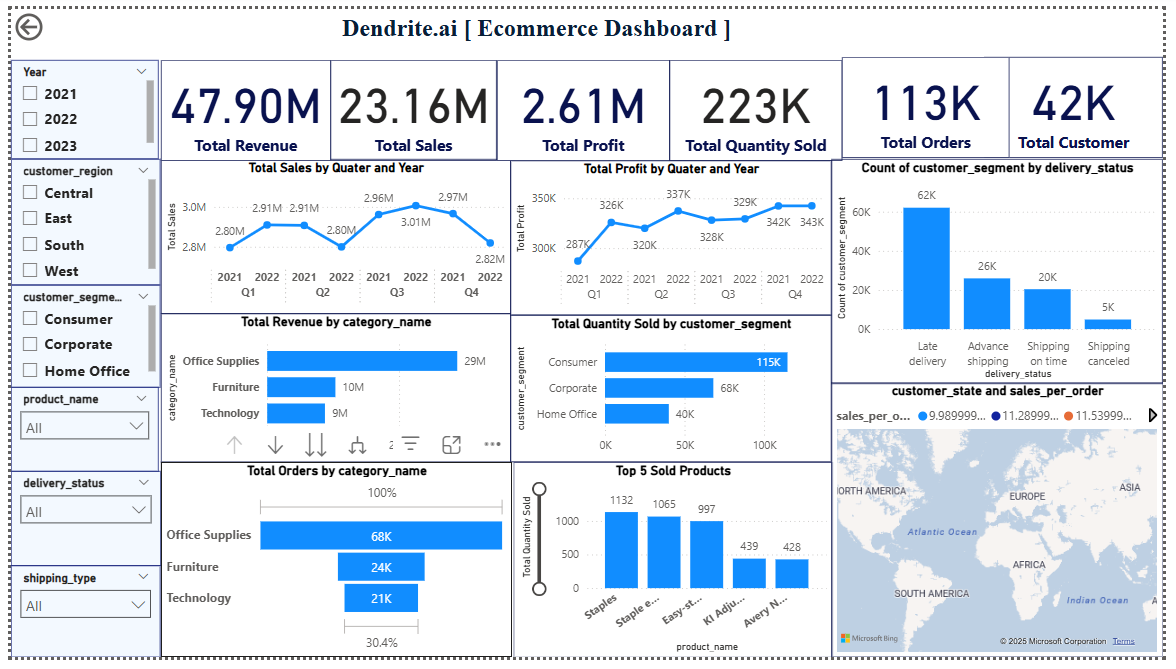

What the dashboard file says about the page in this screenshot:
{"tool":"powerbi","page":{"name":"Ecommerce Dashboard","canvas":[1280,720],"ordinal":0},"visuals":[{"type":"textbox","box":[0,0,1260,54],"z":0},{"type":"slicer","fields":{"Values":["Calender.Year"]},"box":[0,56,164,110],"z":1000},{"type":"lineChart","fields":{"Category":["Calender.Quater","Calender.Year"],"Y":["ecommerce_data.Total Sales"]},"box":[166.7,166.7,388.3,171.7],"z":2000},{"type":"card","fields":{"Values":["ecommerce_data.Total Customer"]},"box":[1082,54,198,112],"z":3000},{"type":"slicer","fields":{"Values":["ecommerce_data.customer_region"]},"box":[0,166,166,140],"z":4000},{"type":"lineChart","fields":{"Y":["ecommerce_data.Total Profit"],"Category":["Calender.Quater","Calender.Year"]},"box":[555,168.3,356.7,171.7],"z":5000},{"type":"slicer","fields":{"Values":["ecommerce_data.customer_segment"]},"box":[0,306,166,114],"z":6000},{"type":"slicer","fields":{"Values":["ecommerce_data.shipping_type"]},"box":[0,618,166,102],"z":7000},{"type":"slicer","fields":{"Values":["ecommerce_data.product_name"]},"box":[0,420,164,94],"z":8000},{"type":"card","fields":{"Values":["ecommerce_data.Total Sales"]},"box":[355.5,56.4,184.5,111.8],"z":9000},{"type":"slicer","fields":{"Values":["ecommerce_data.delivery_status"]},"box":[0,513.3,166.7,105],"z":10000},{"type":"card","fields":{"Values":["ecommerce_data.Total Profit"]},"box":[540,56.4,191.8,111.8],"z":11000},{"type":"actionButton","box":[0,0,100,40],"z":12000},{"type":"barChart","fields":{"Y":["ecommerce_data.Total Revenue"],"Category":["ecommerce_data.category_name"]},"box":[166.7,338.3,388.3,165],"z":13000},{"type":"card","fields":{"Values":["ecommerce_data.Total Revenue"]},"box":[166.7,56.7,188.3,111.7],"z":14000},{"type":"barChart","fields":{"Category":["ecommerce_data.customer_segment"],"Y":["ecommerce_data.Total Quantity Sold"]},"box":[555,340,356.7,163.3],"z":15000},{"type":"funnel","fields":{"Category":["ecommerce_data.category_name","ecommerce_data.customer_segment"],"Y":["ecommerce_data.Total Orders"]},"box":[166.7,503.3,390,216.7],"z":16000},{"type":"card","fields":{"Values":["ecommerce_data.Total Quantity Sold"]},"box":[731.7,56.7,191.7,111.7],"z":17000},{"type":"columnChart","fields":{"Category":["ecommerce_data.delivery_status"],"Y":["CountNonNull(ecommerce_data.customer_segment)"]},"box":[912,166,368,250],"z":18000},{"type":"filledMap","fields":{"Category":["ecommerce_data.customer_state"],"Series":["ecommerce_data.sales_per_order"]},"box":[911.7,415,368.3,305],"z":19000},{"type":"card","fields":{"Values":["ecommerce_data.Total Orders"]},"box":[924,54,186,112],"z":20000},{"type":"columnChart","title":"Top 5 Sold Products","fields":{"Category":["ecommerce_data.product_name"],"Y":["ecommerce_data.Total Quantity Sold"]},"box":[558.6,502.9,354.3,217.1],"z":20001}]}

Visuals, with their boxes in screenshot pixels (x1, y1, x2, y2), scaled from the page's 1280x720 canvas onto the 1176x669 screenshot:
textbox: left=0, top=0, right=1158, bottom=50
slicer - Calender.Year: left=0, top=52, right=151, bottom=154
lineChart - Calender.Quater x Calender.Year: left=153, top=155, right=510, bottom=314
card - ecommerce_data.Total Customer: left=994, top=50, right=1175, bottom=154
slicer - ecommerce_data.customer_region: left=0, top=154, right=153, bottom=284
lineChart - ecommerce_data.Total Profit x Calender.Quater: left=510, top=156, right=838, bottom=316
slicer - ecommerce_data.customer_segment: left=0, top=284, right=153, bottom=390
slicer - ecommerce_data.shipping_type: left=0, top=574, right=153, bottom=668
slicer - ecommerce_data.product_name: left=0, top=390, right=151, bottom=478
card - ecommerce_data.Total Sales: left=327, top=52, right=496, bottom=156
slicer - ecommerce_data.delivery_status: left=0, top=477, right=153, bottom=575
card - ecommerce_data.Total Profit: left=496, top=52, right=672, bottom=156
actionButton: left=0, top=0, right=92, bottom=37
barChart - ecommerce_data.Total Revenue x ecommerce_data.category_name: left=153, top=314, right=510, bottom=468
card - ecommerce_data.Total Revenue: left=153, top=53, right=326, bottom=156
barChart - ecommerce_data.customer_segment x ecommerce_data.Total Quantity Sold: left=510, top=316, right=838, bottom=468
funnel - ecommerce_data.category_name x ecommerce_data.customer_segment: left=153, top=468, right=511, bottom=668
card - ecommerce_data.Total Quantity Sold: left=672, top=53, right=848, bottom=156
columnChart - ecommerce_data.delivery_status x CountNonNull(ecommerce_data.customer_segment): left=838, top=154, right=1175, bottom=387
filledMap - ecommerce_data.customer_state x ecommerce_data.sales_per_order: left=838, top=386, right=1175, bottom=668
card - ecommerce_data.Total Orders: left=849, top=50, right=1020, bottom=154
"Top 5 Sold Products" columnChart: left=513, top=467, right=839, bottom=668
